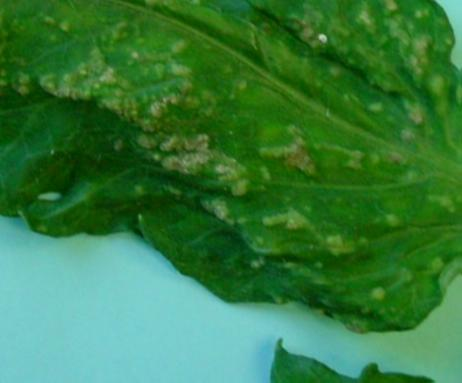Tomato mold leaf: (0, 0, 462, 352)
